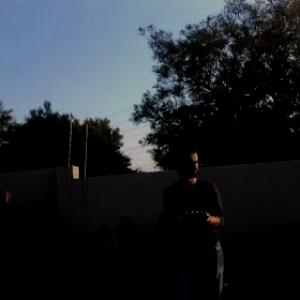follow: (160, 134, 232, 299)
